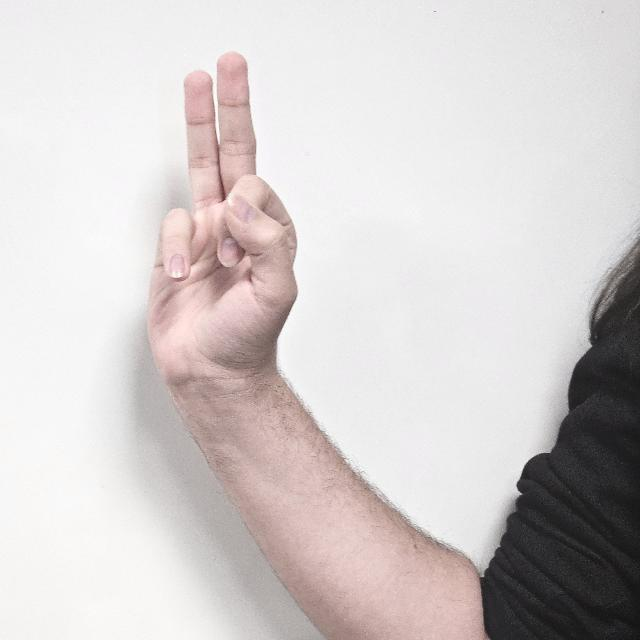R: (139, 54, 295, 406)
